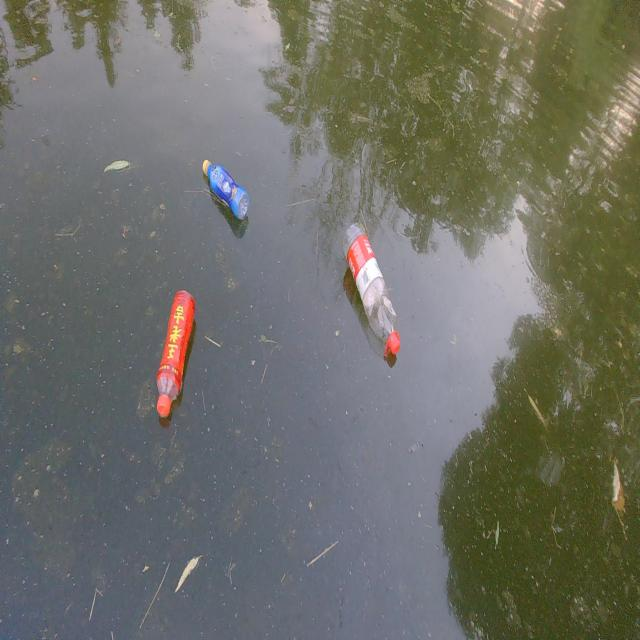Bottle: (340, 222, 404, 364), (152, 286, 197, 422), (197, 153, 251, 229)
